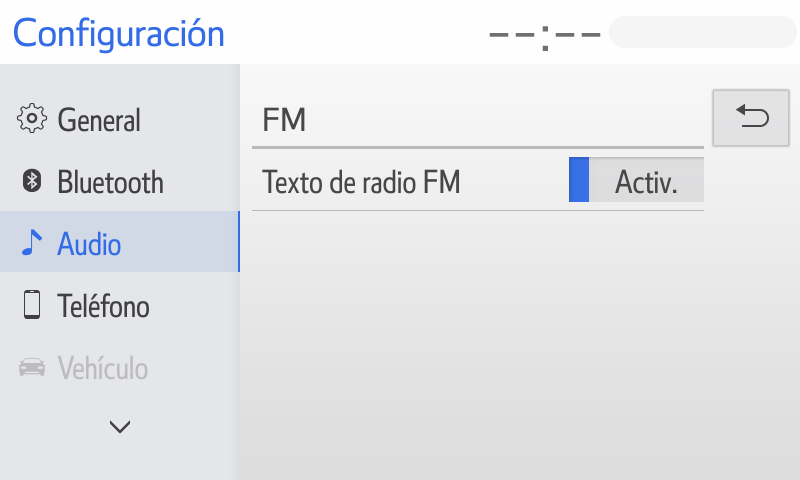touchPart: (249, 135, 709, 222), (17, 154, 169, 208), (21, 283, 169, 334), (709, 79, 797, 155), (17, 97, 158, 142), (100, 406, 143, 450)
untouchPart: (1, 208, 241, 275), (469, 16, 799, 52), (11, 7, 232, 48), (20, 342, 158, 390)
